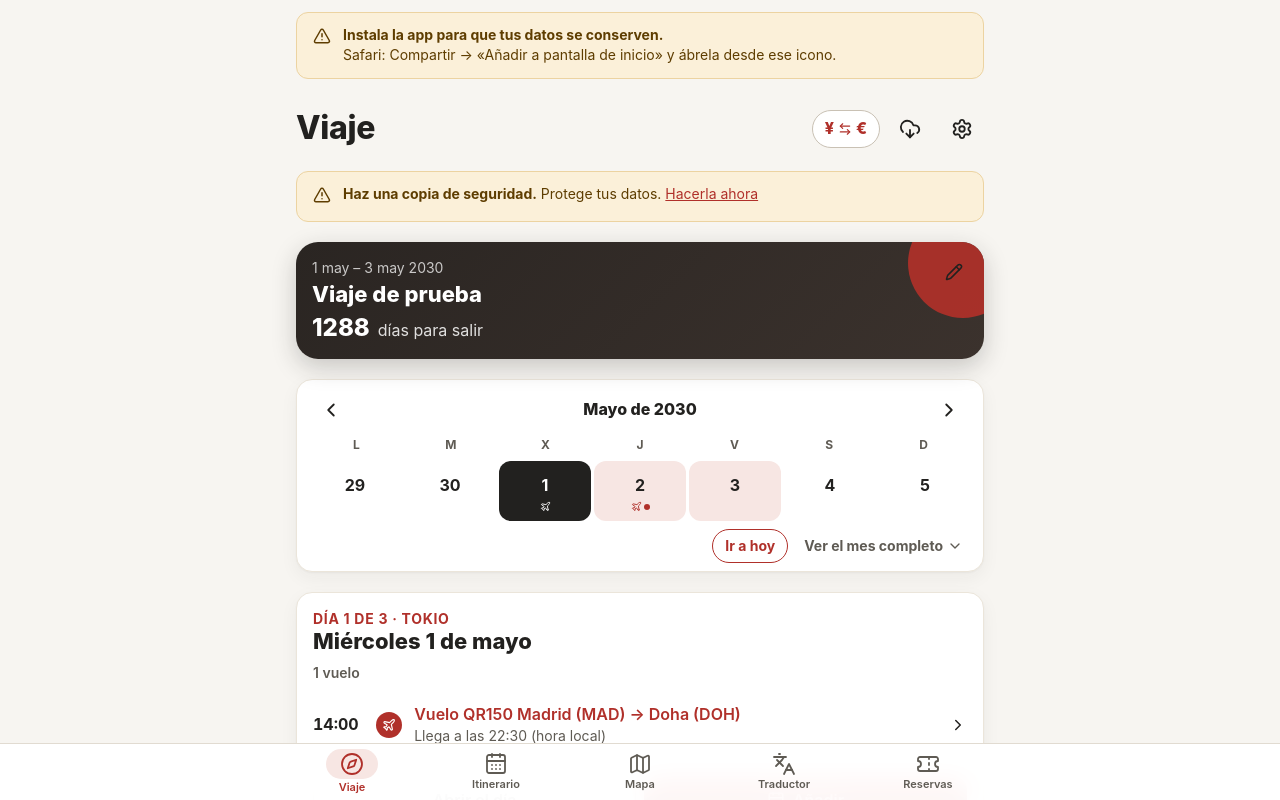
Test: itinerario, día de vuelo y calendario › el inicio resume el día y junta la próxima reserva y lo pendiente en una sola tarjeta
Check: the text "1 vuelo" is shown, box 313,664 -> 360,681
Click the button named "jueves 2 de mayo": click(640, 491) 594,461 -> 686,521
(page scrolled)
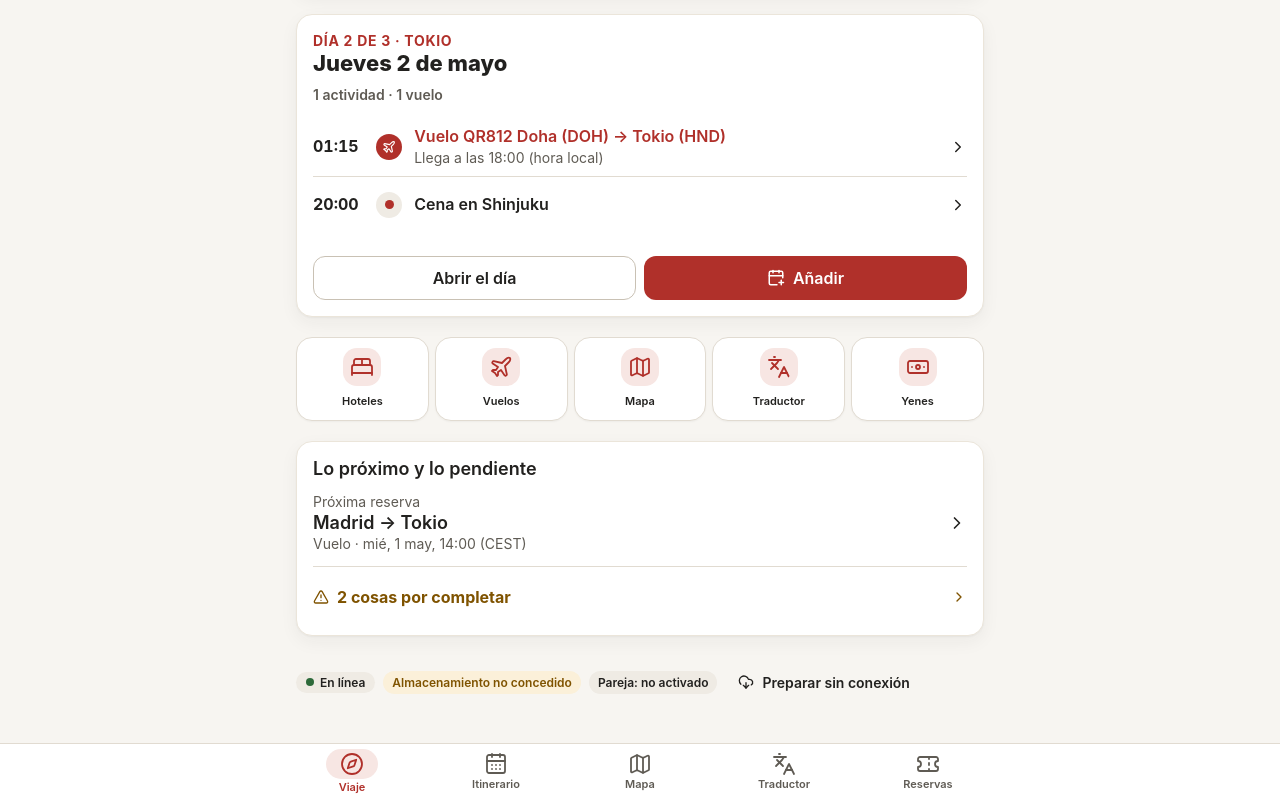
Check: the heading "Lo próximo y lo pendiente" is shown, box 313,458 -> 536,480
Check: the text "1 actividad · 1 vuelo" is shown, box 313,86 -> 443,103
